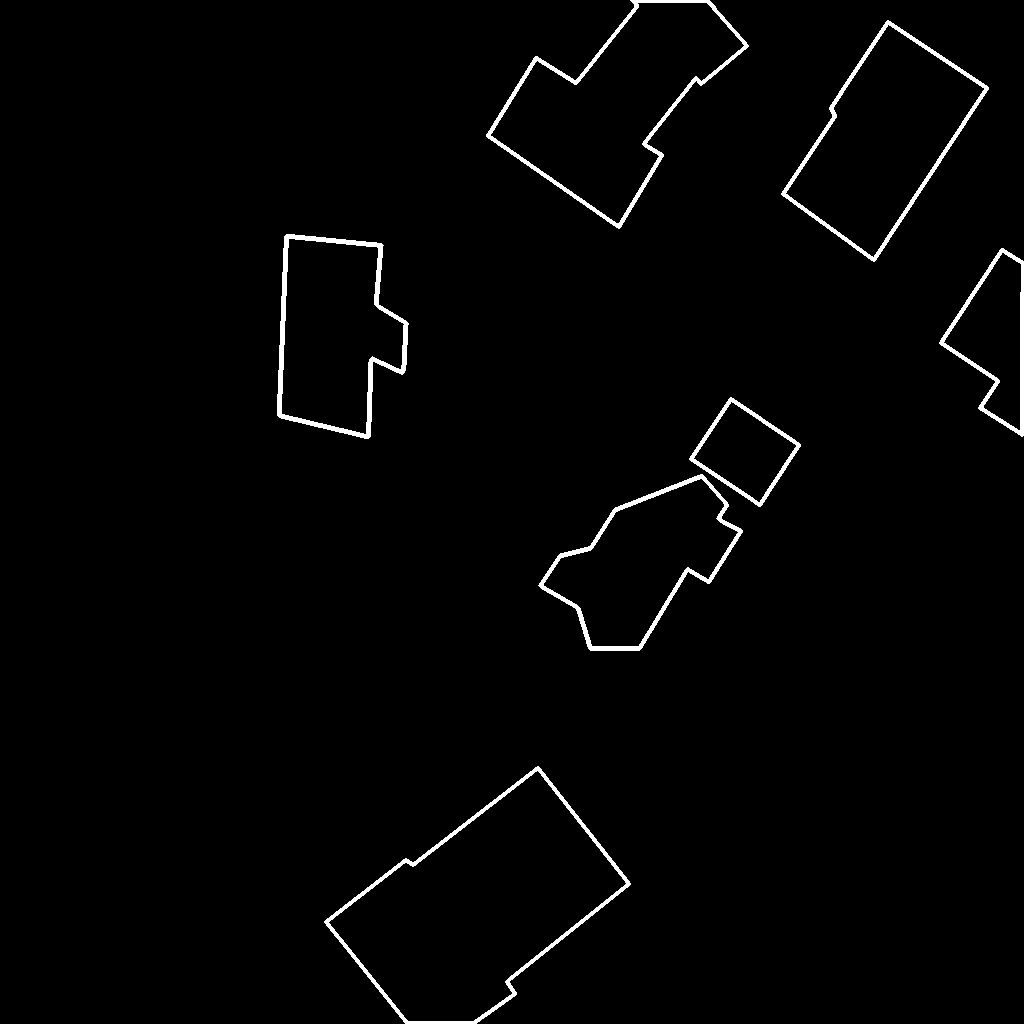building: (326, 768, 630, 1024), (488, 0, 748, 228), (783, 22, 988, 261), (540, 476, 742, 649), (279, 236, 407, 438), (941, 250, 1024, 436), (691, 399, 800, 506)
